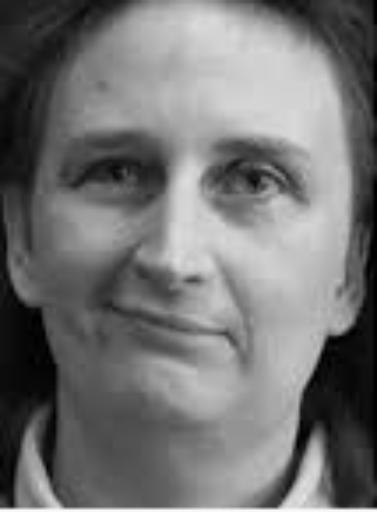left_eye: (203, 164, 296, 205)
left_lip_corner: (203, 316, 248, 347)
right_eye: (79, 155, 159, 192)
right_lip_corner: (102, 295, 131, 322)
